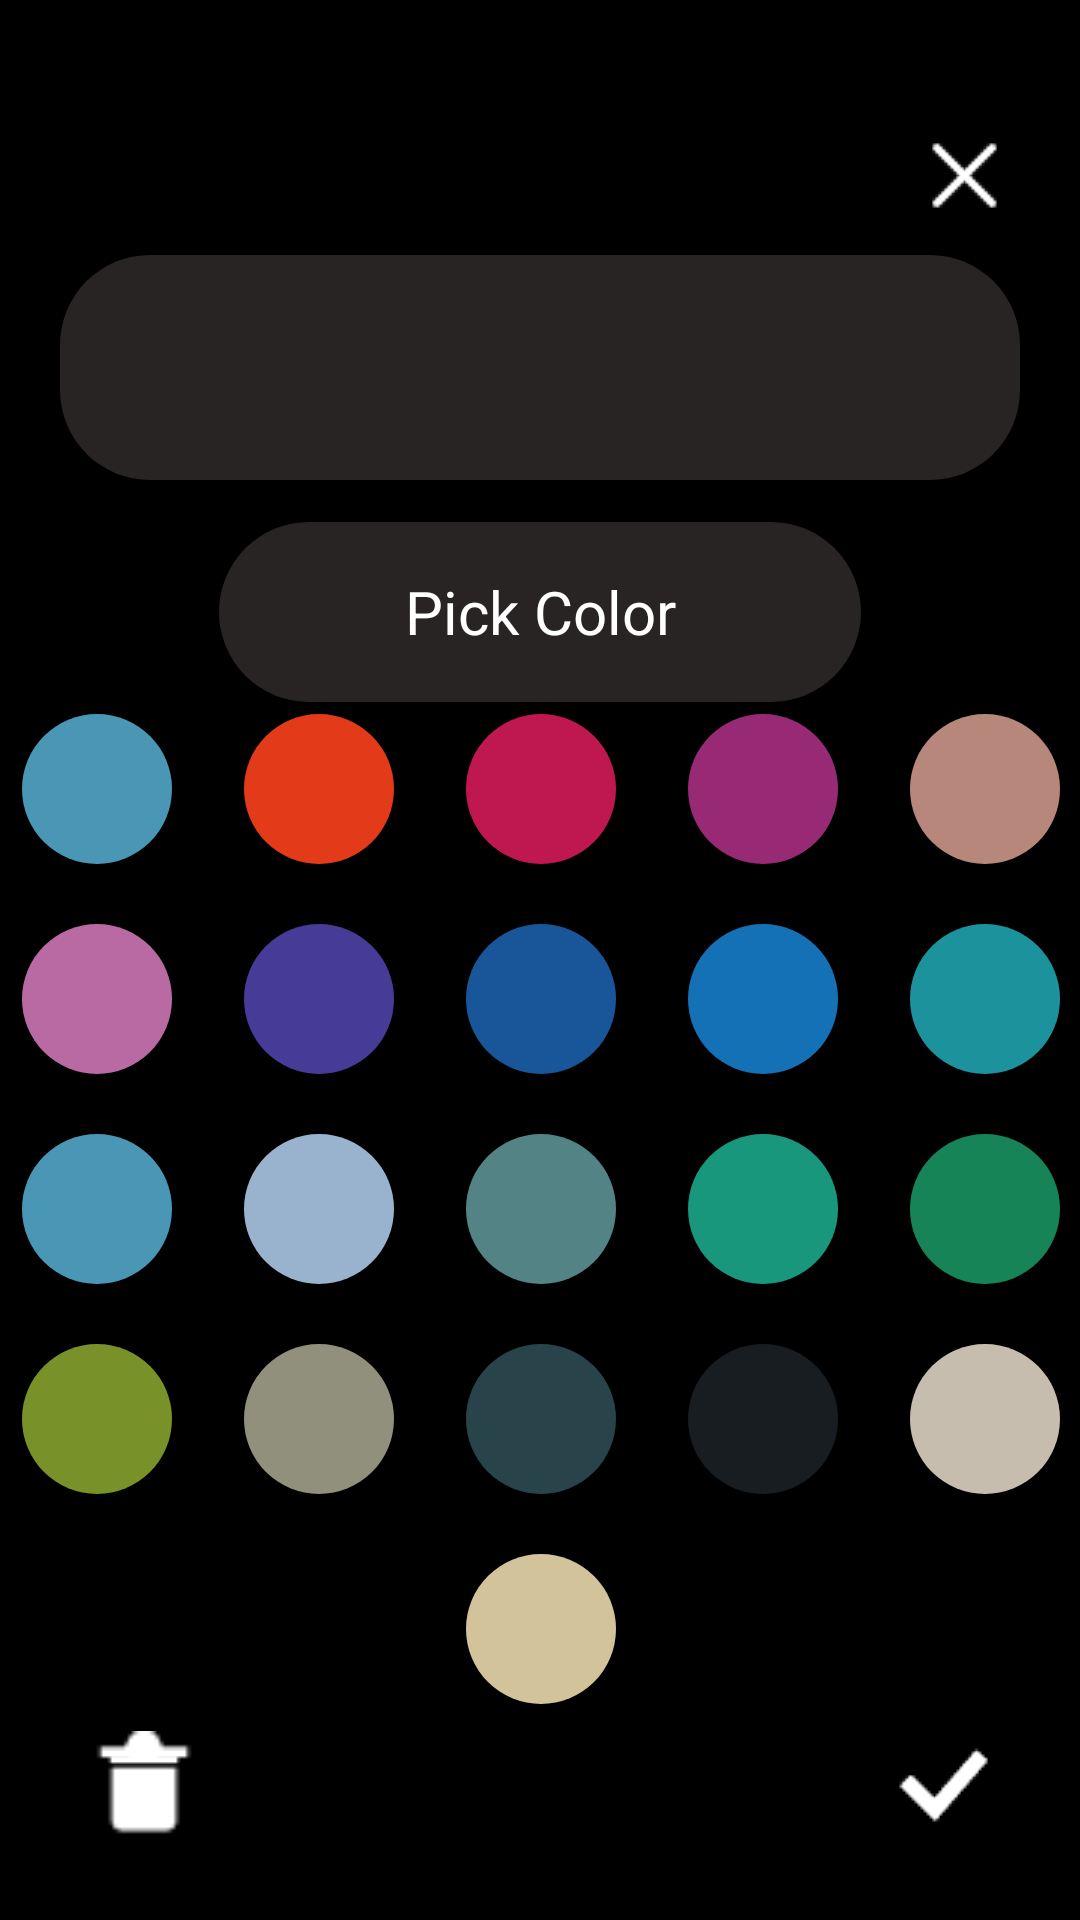

Icons on this 1080w x 1920h Android screen, each with the point to tap as (x,y):
checkmark: (943,1785)
trash: (144,1782)
